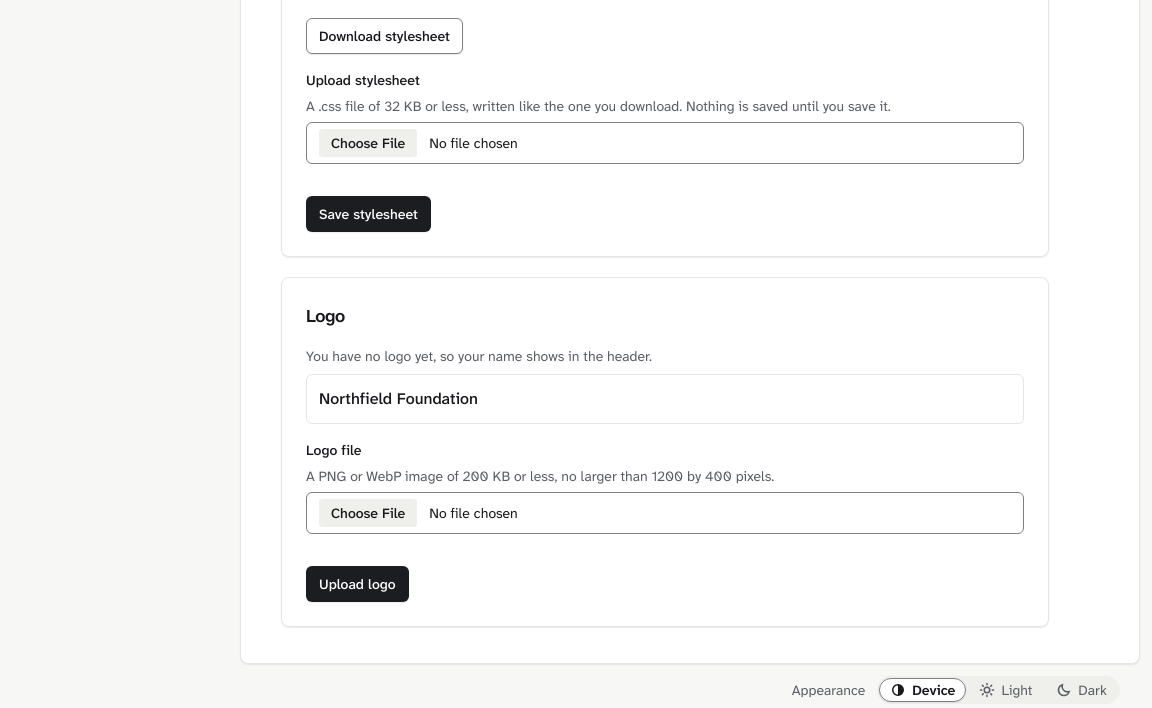
Test: the logo section › says what to do when Upload logo is pressed with no file, and moves focus to the file field
(page scrolled)
Check: the file field labelled "Logo file" is shown, box top-left (306, 492), bottom-right (1024, 534)
Click the button "Upload logo".
click(357, 584)  # box top-left (306, 566), bottom-right (409, 602)
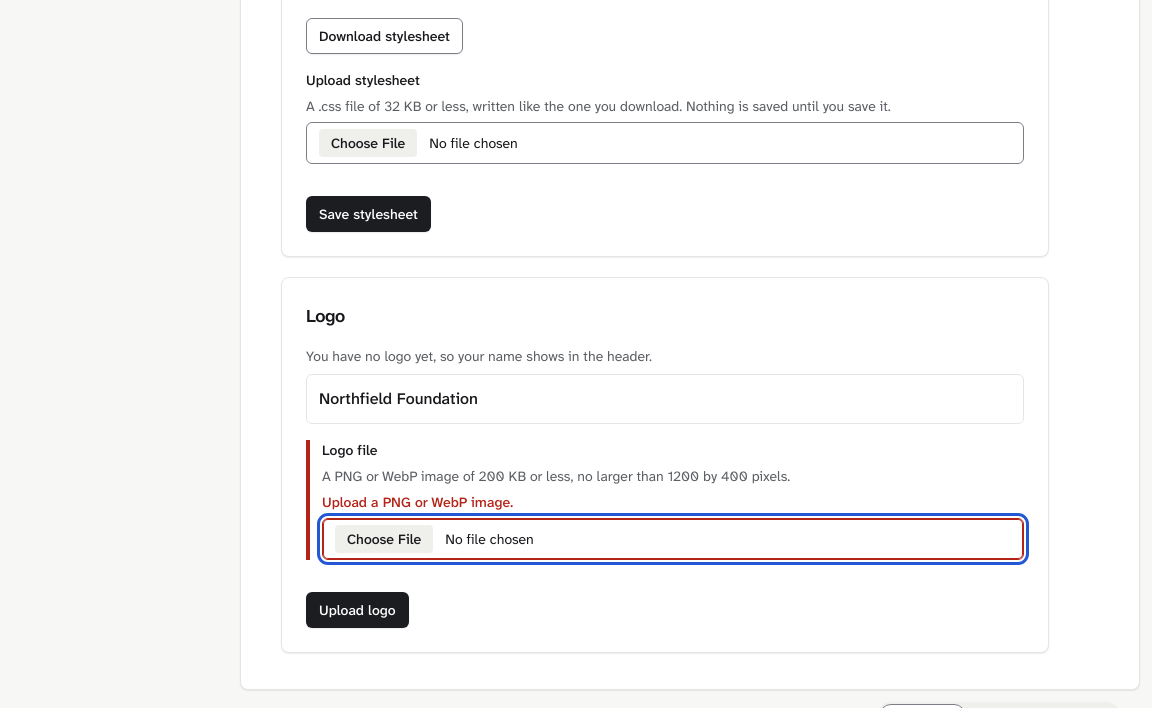
Check: the text "Upload a PNG or WebP image." is shown, box top-left (321, 492), bottom-right (513, 511)
